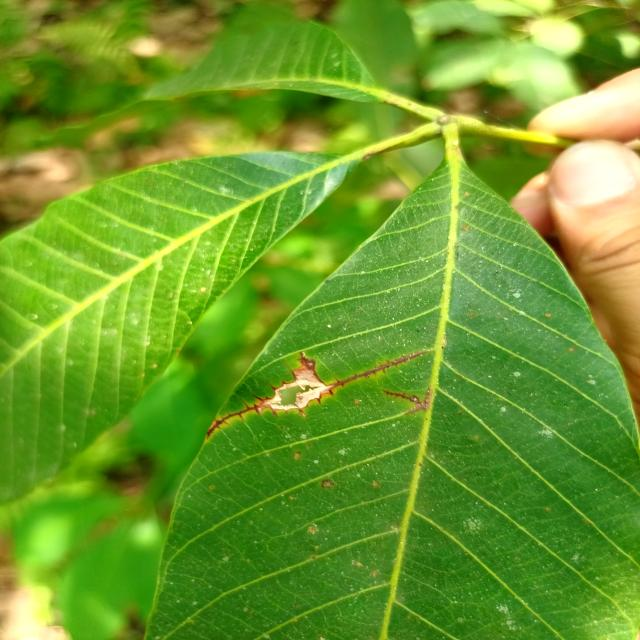Corynespora: (328, 350, 426, 396), (207, 394, 272, 440), (382, 388, 432, 415), (298, 352, 326, 385)
Leaf-Blight: (270, 368, 333, 411)
